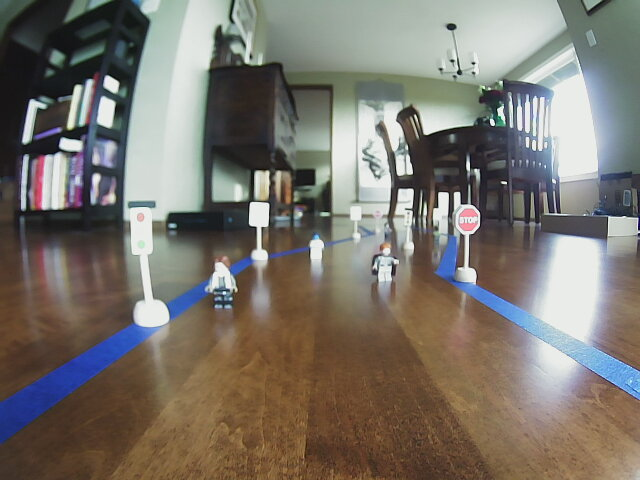SpeedLimit25: (249, 200, 270, 227), (350, 202, 360, 224)
StopSign: (456, 205, 478, 235), (372, 208, 382, 218)
TrafficLight: (125, 200, 155, 258), (402, 205, 414, 227)
person: (203, 255, 244, 311), (368, 241, 403, 284), (308, 232, 326, 264), (380, 222, 395, 241)
